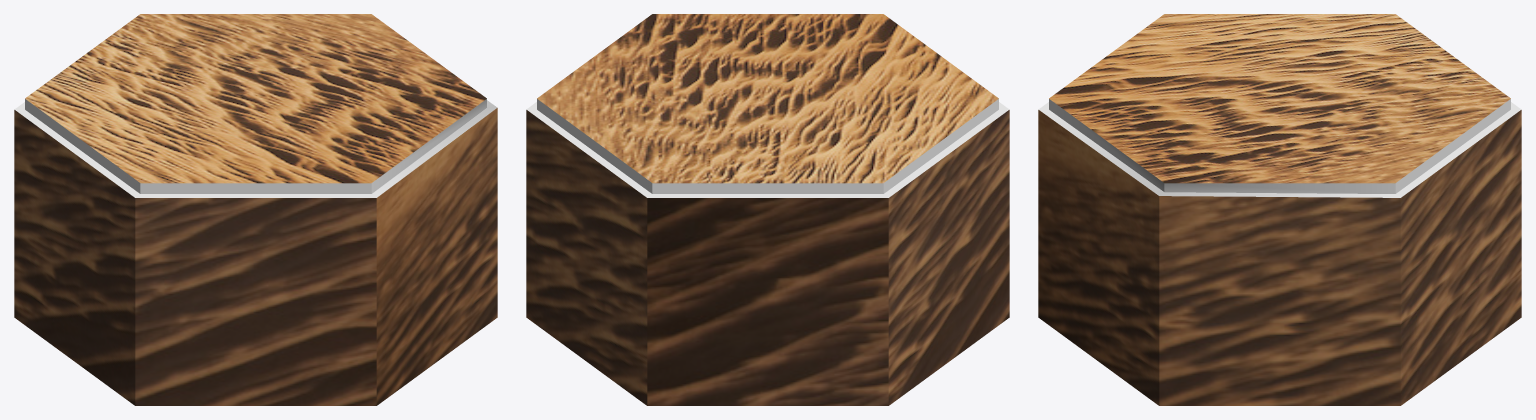
The model's file is DesertHexagon.fbx.
The picture shows the model from 3 angles, left to right: view 1: azimuth 30°, elevation 25°; view 2: azimuth 150°, elevation 25°; view 3: azimuth 270°, elevation 25°; orthographic projection.
Visible parts, largest first — view 1: Cylinder; view 2: Cylinder; view 3: Cylinder.
Part boxes in pixels (<box>): Cylinder: <box>14,14,497,405</box>; Cylinder: <box>526,14,1009,405</box>; Cylinder: <box>1038,14,1521,405</box>.
Size of the model in its own units: 173 by 100 by 200.
